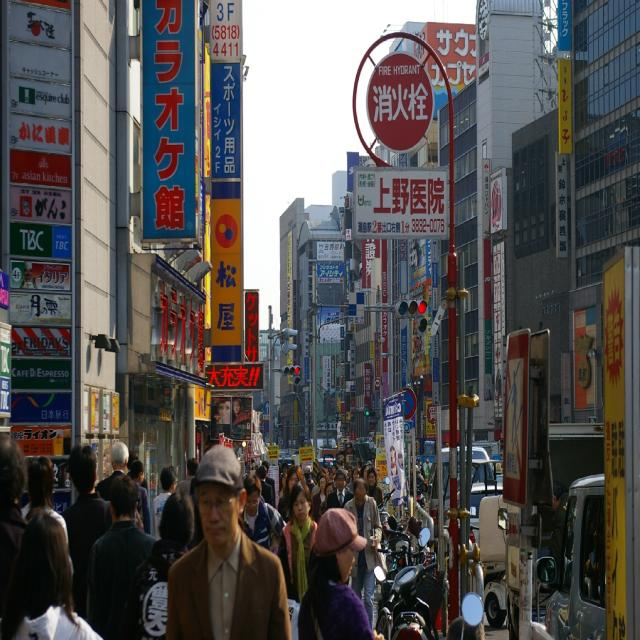body: (165, 442, 293, 640), (0, 510, 104, 640), (87, 473, 160, 640), (296, 506, 385, 640), (120, 487, 196, 640), (60, 442, 114, 622), (249, 447, 417, 490), (20, 455, 74, 586), (343, 477, 383, 632), (276, 478, 320, 605), (0, 431, 29, 618), (124, 450, 203, 503), (238, 472, 288, 551), (95, 441, 143, 519), (209, 394, 252, 445), (547, 481, 569, 572), (151, 466, 177, 542), (278, 464, 306, 525), (130, 459, 151, 536), (444, 610, 487, 640), (508, 365, 520, 471), (324, 468, 354, 510), (311, 473, 327, 524), (257, 463, 274, 508), (366, 466, 384, 506), (410, 463, 426, 508), (319, 482, 337, 519), (20, 260, 38, 294), (346, 465, 362, 494), (416, 458, 426, 484)
